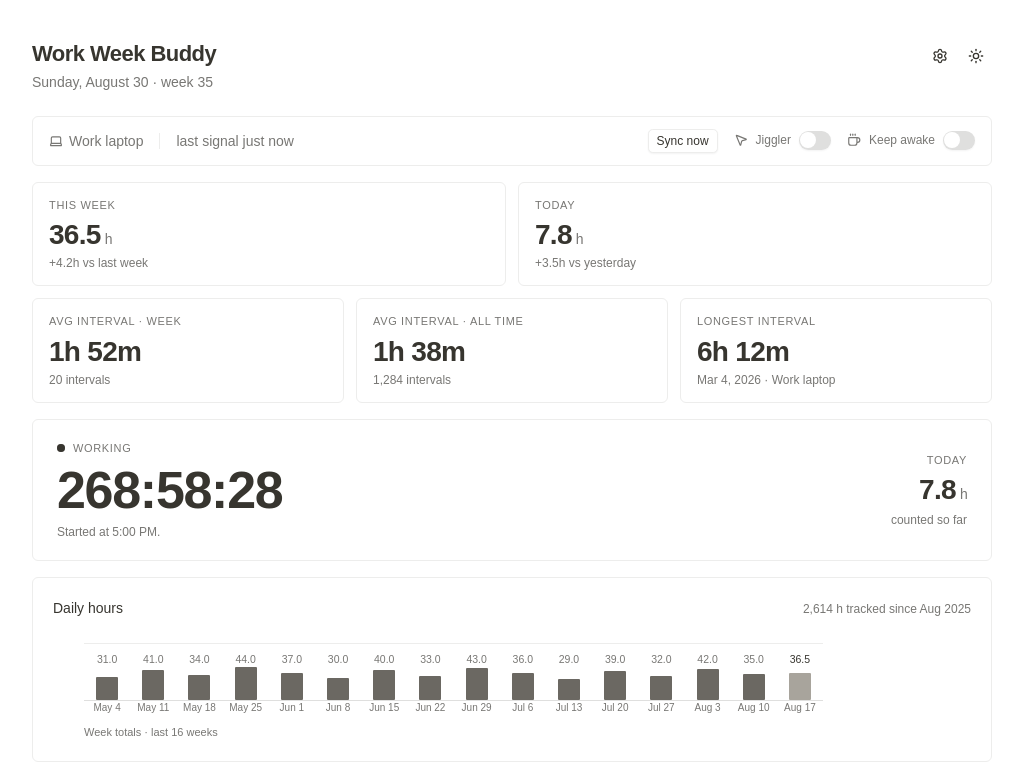
Test case: what it says when it did not › never fails silently, even when the failure came with no reason
Click the button "Sync now".
click(683, 140)  # box [648, 128, 718, 152]
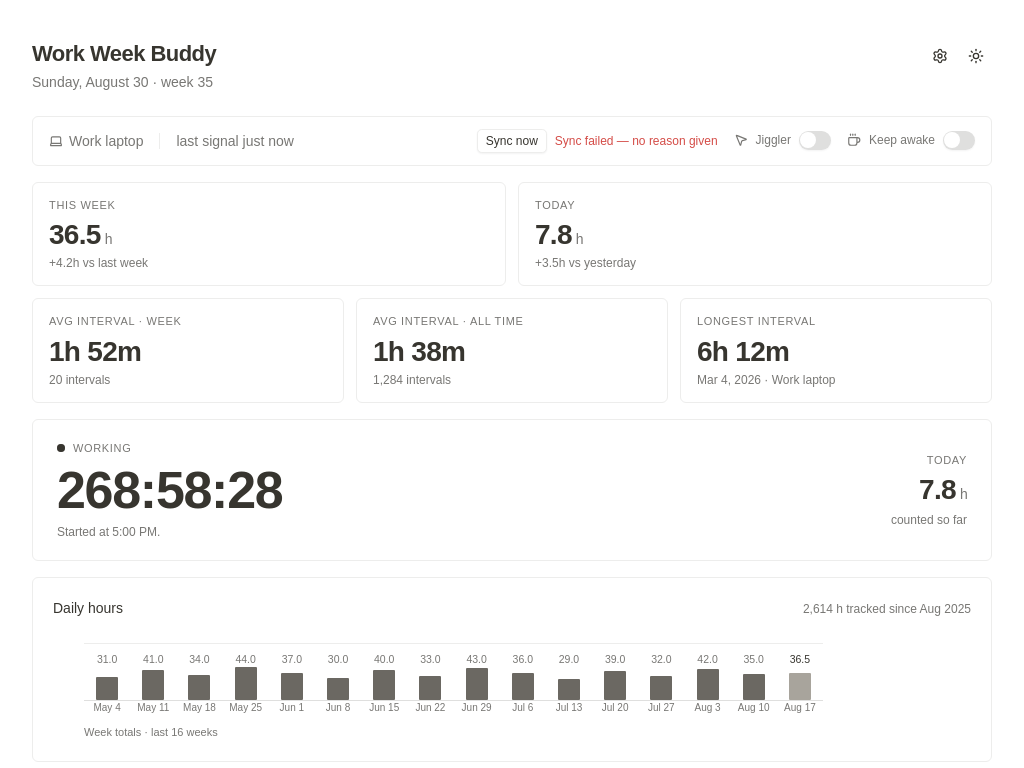
Now the message "Sync failed — no reason given" is shown, box [555, 132, 718, 148]
